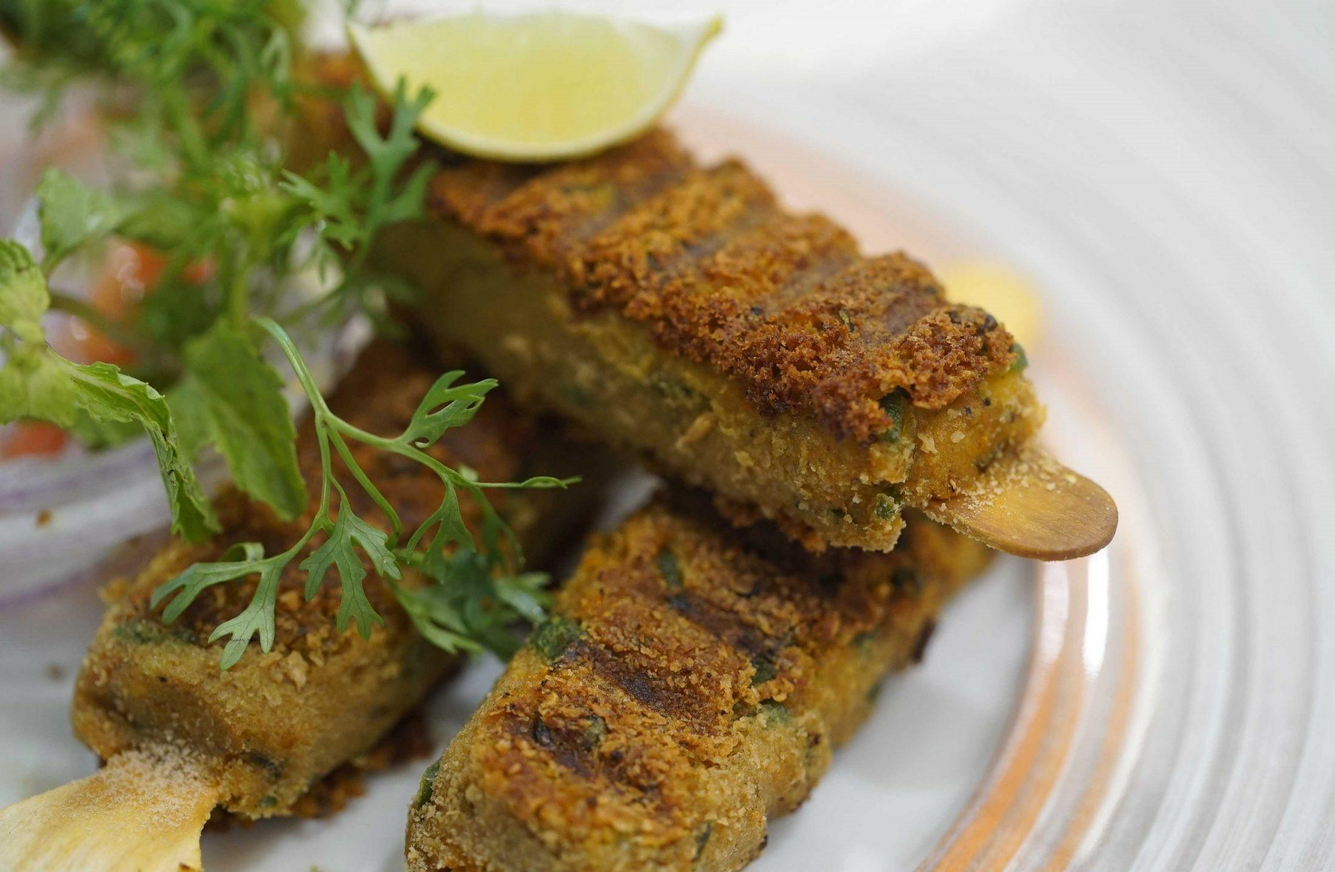Kebab: (290, 44, 1044, 557), (71, 303, 628, 820), (405, 469, 997, 872), (76, 824, 96, 826)
